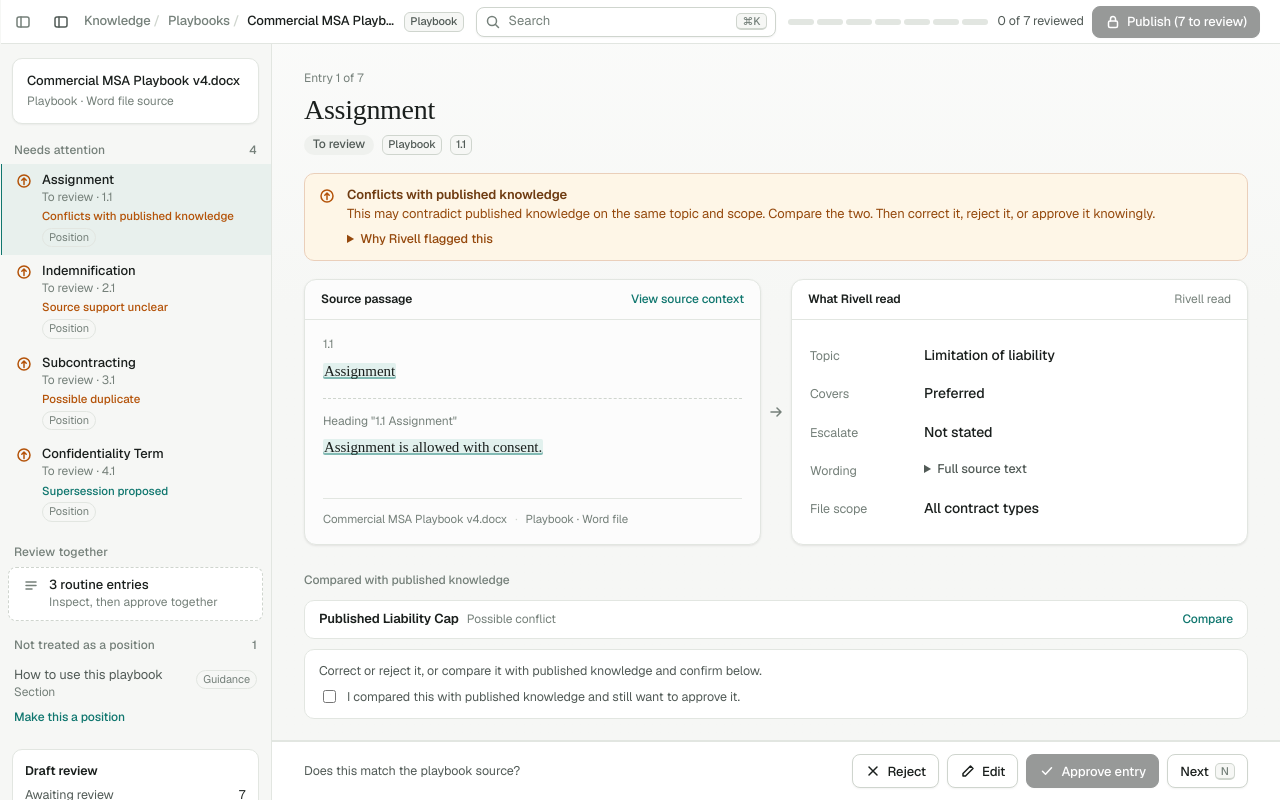
compilation workspace › opens the source in context and returns to the candidate
expect the heading "Assignment" is shown: met, box [304,94,435,125]
Click the button "View source context": [688, 300] box [631,291,744,308]
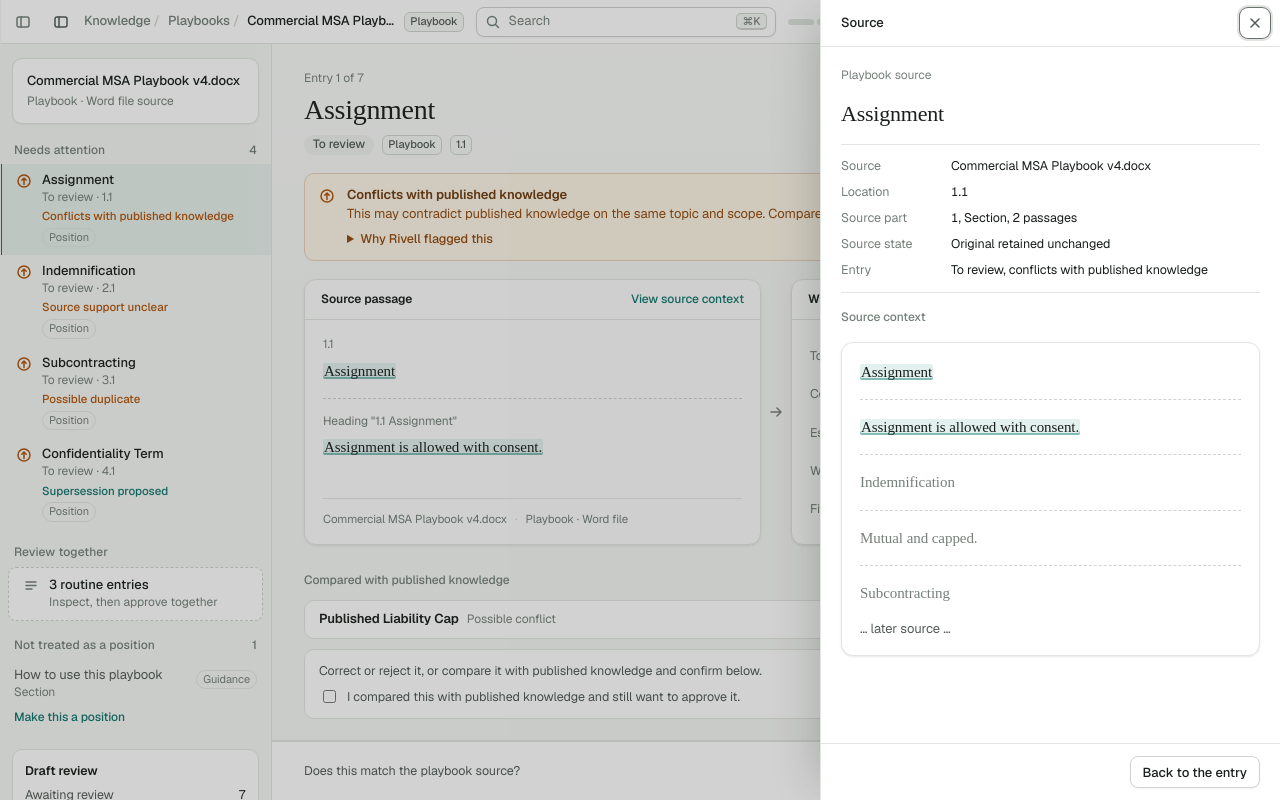
expect the text "Source" is shown 2 times: met, box [841,14,884,32]; [841,157,881,174]
expect the text "Original retained unchanged" is shown: met, box [951,235,1110,252]
expect the heading "Subcontracting" is shown: met, box [860,585,950,601]
Click the button "Back to the entry": [1195, 772] box [1130,756,1260,788]
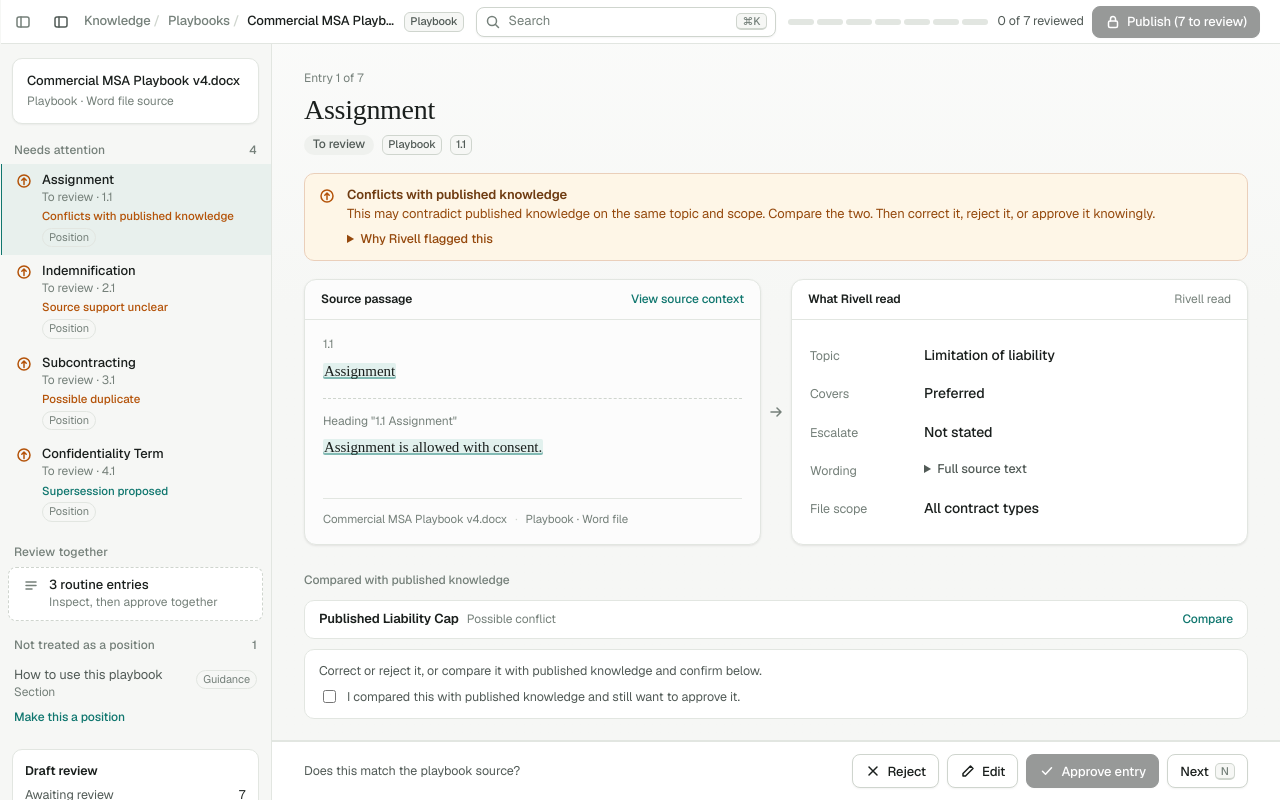
expect the heading "Assignment" is shown: met, box [304,94,435,125]
expect the dialog is gone: met
